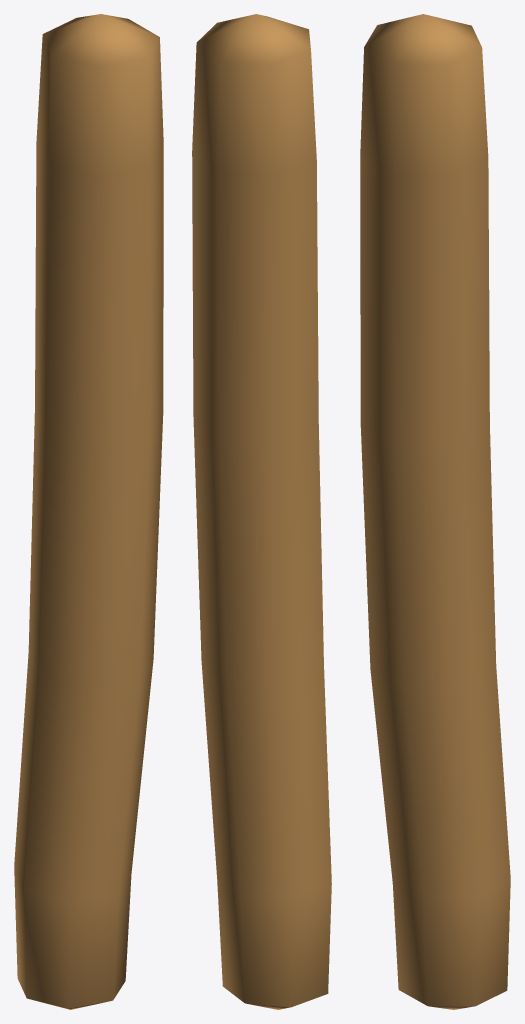
File: tarsus2_T2_left_leg.obj
The picture shows the model from 3 angles, left to right: view 1: azimuth 90°, elevation 25°; view 2: azimuth 210°, elevation 25°; view 3: azimuth 270°, elevation 25°; orthographic projection.
Size of the model in its own units: 0.00266 by 0.0227 by 0.0031.
